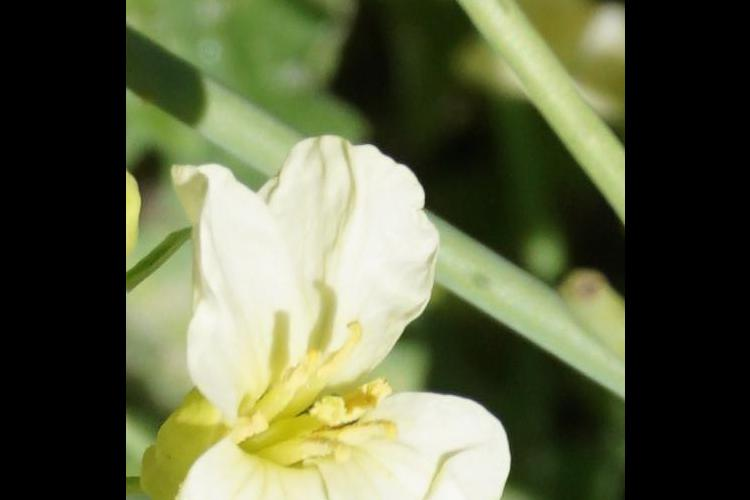white: (135, 172, 527, 500)
